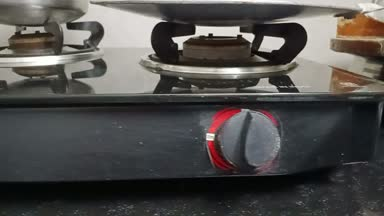noflame_gason: (140, 21, 334, 176)
